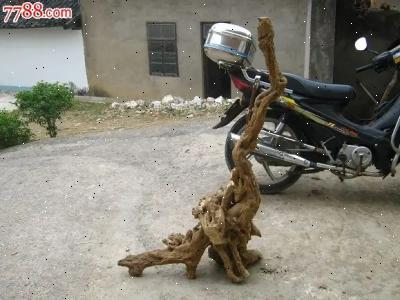Root: (118, 17, 286, 282)
